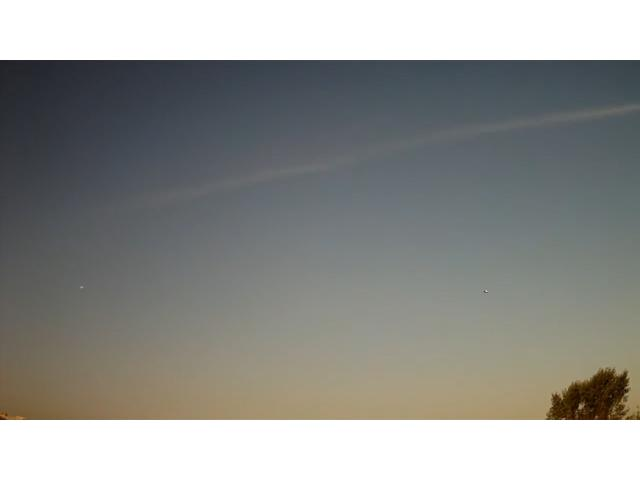Anti-Drone: (476, 286, 500, 298)
